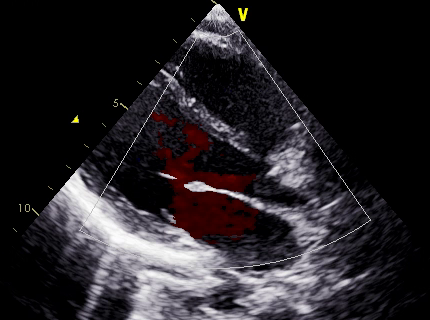AR: (162, 116, 259, 191)
